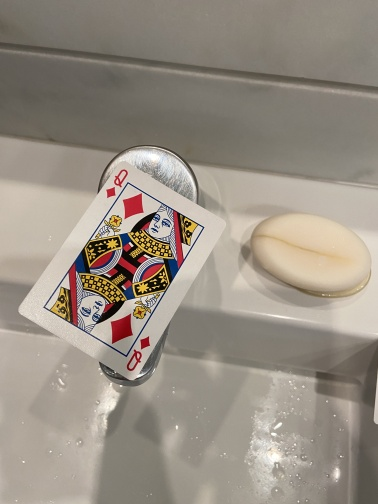queen: (16, 159, 228, 383)
